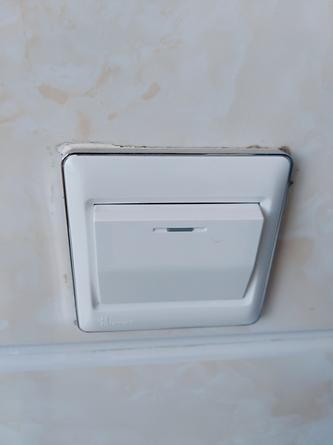switch: (89, 199, 259, 309)
